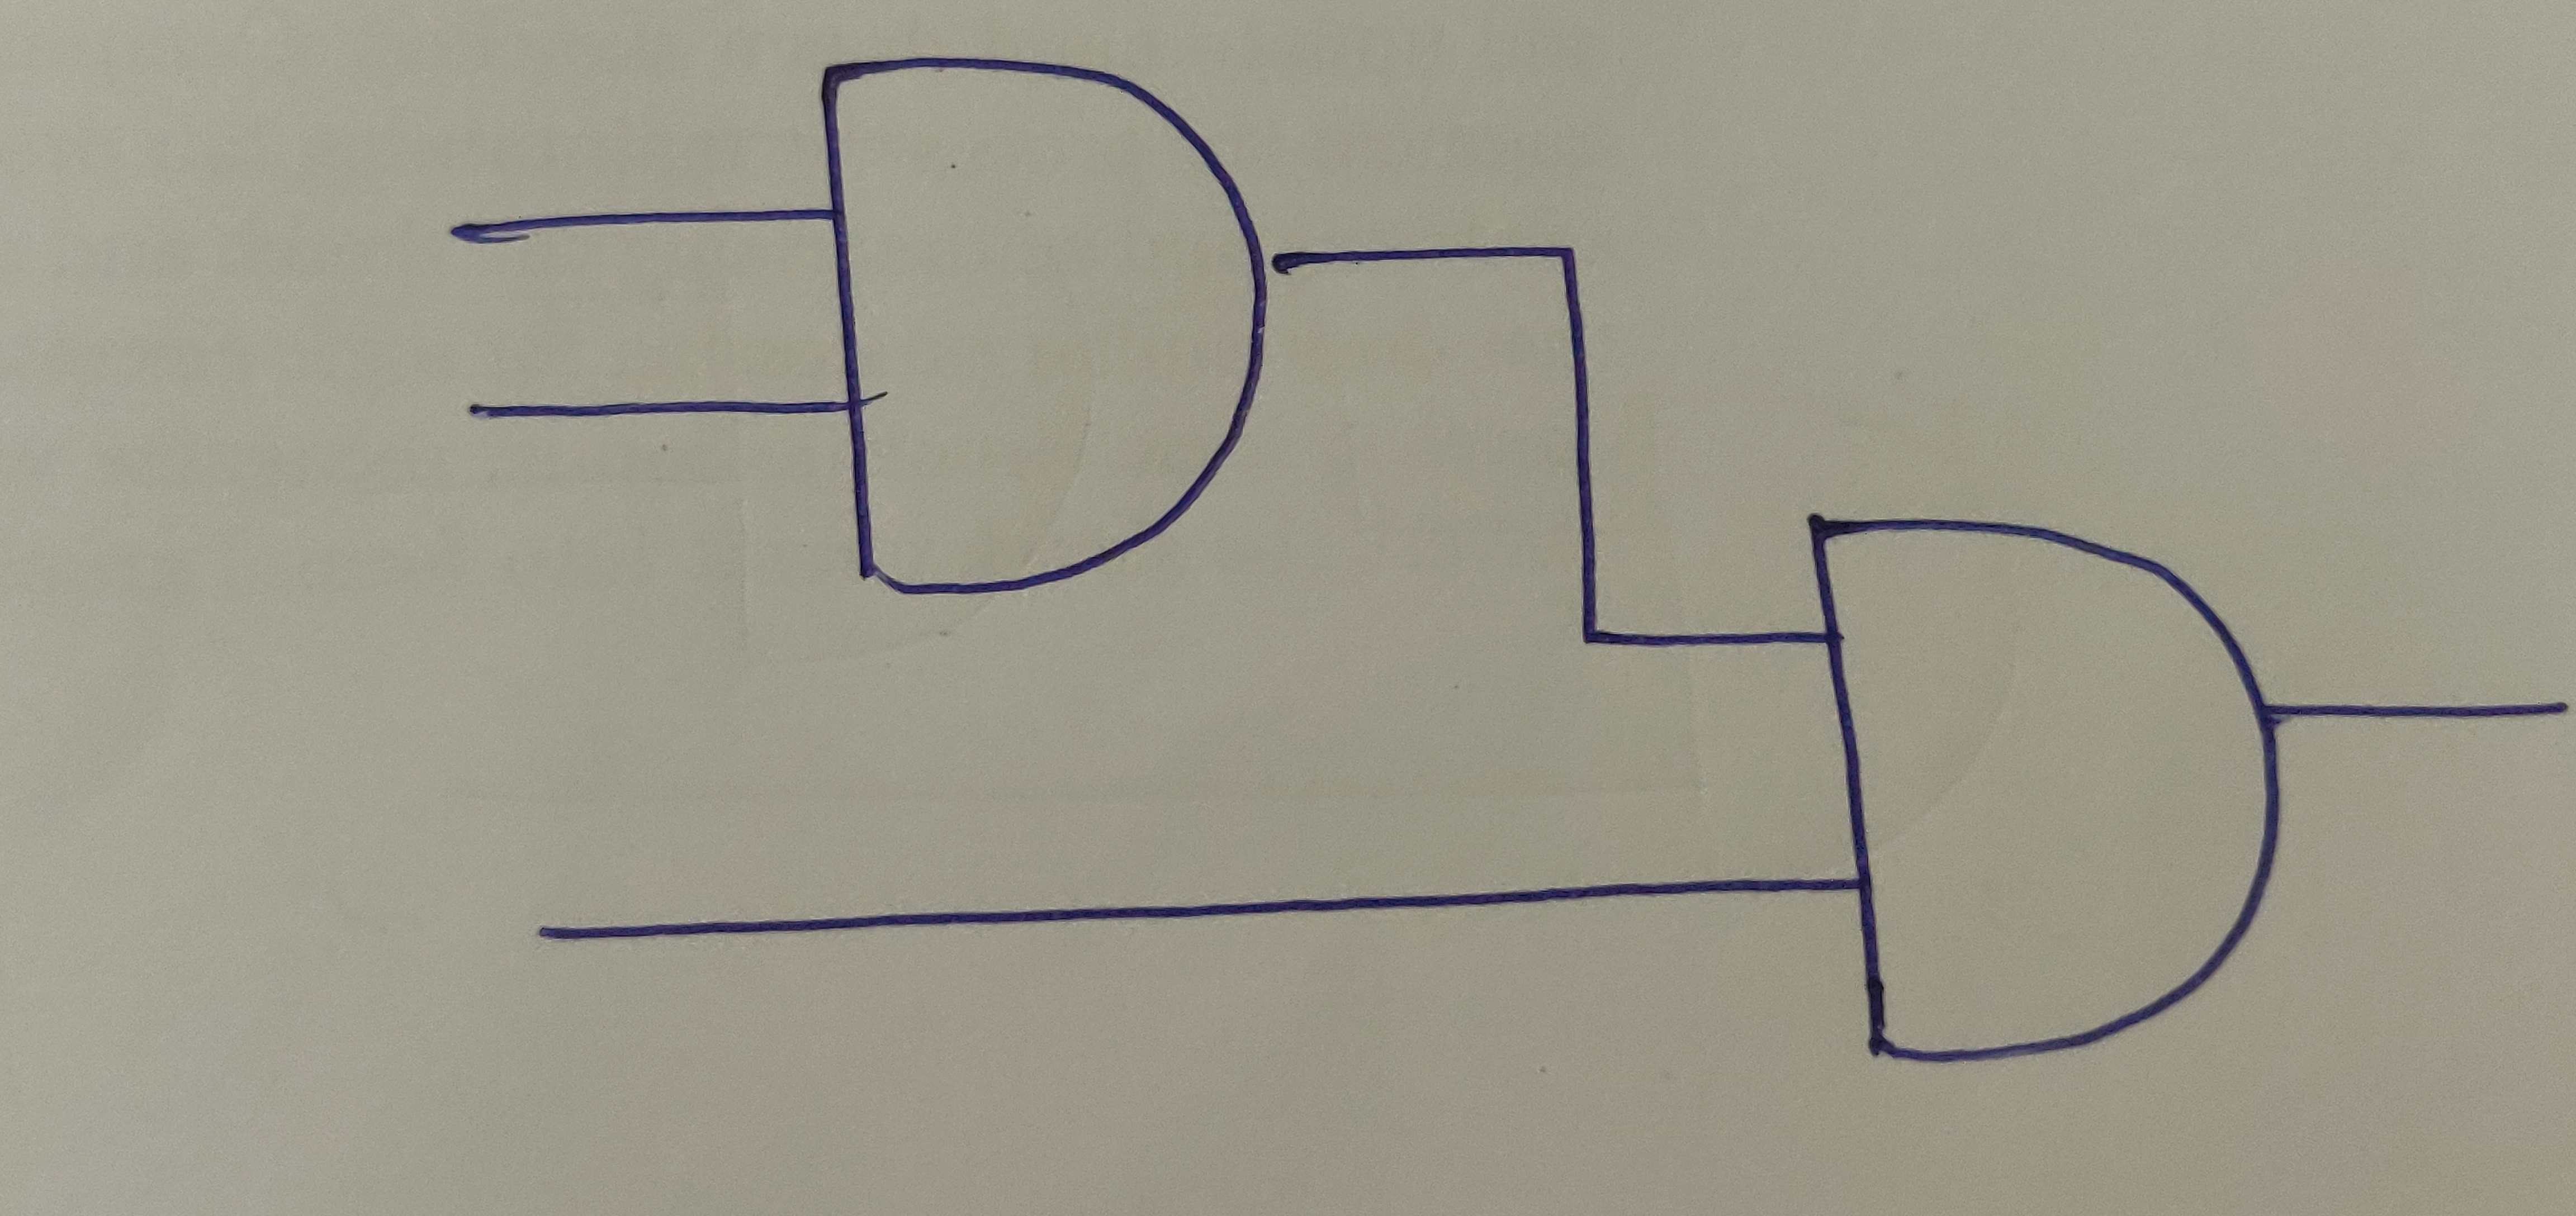and: (1799, 513, 2284, 1066), (813, 51, 1278, 600)
